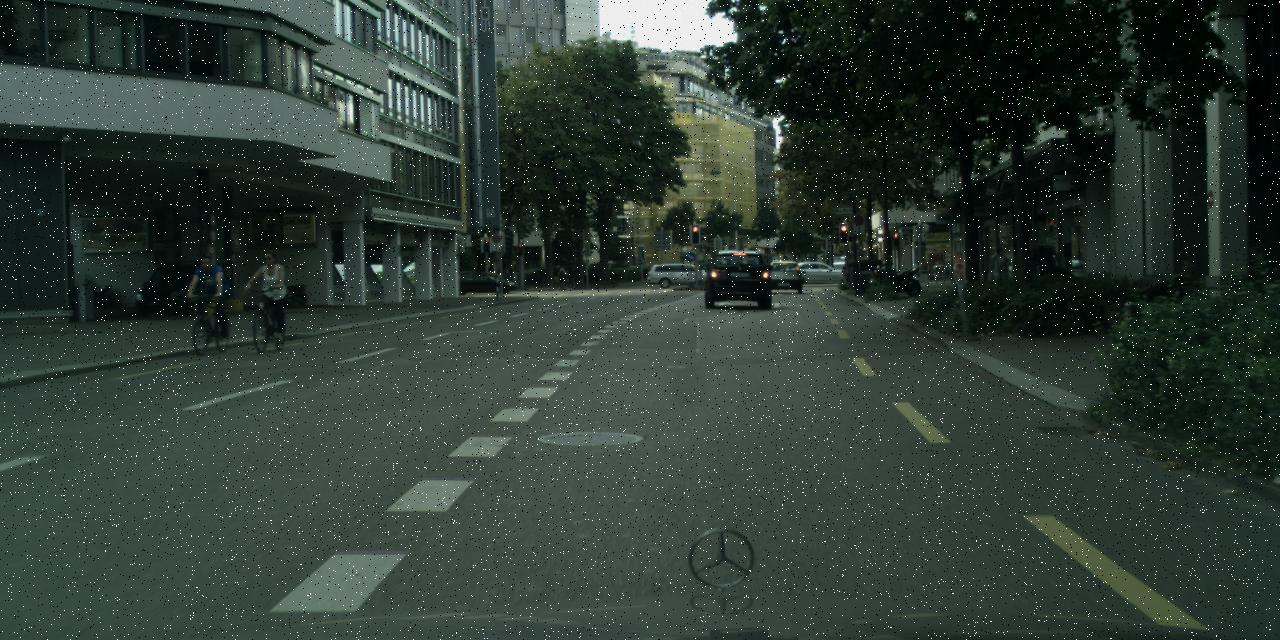ped: (254, 252, 288, 336), (192, 254, 225, 336), (1030, 242, 1053, 300), (991, 247, 1010, 291), (556, 265, 564, 284)
